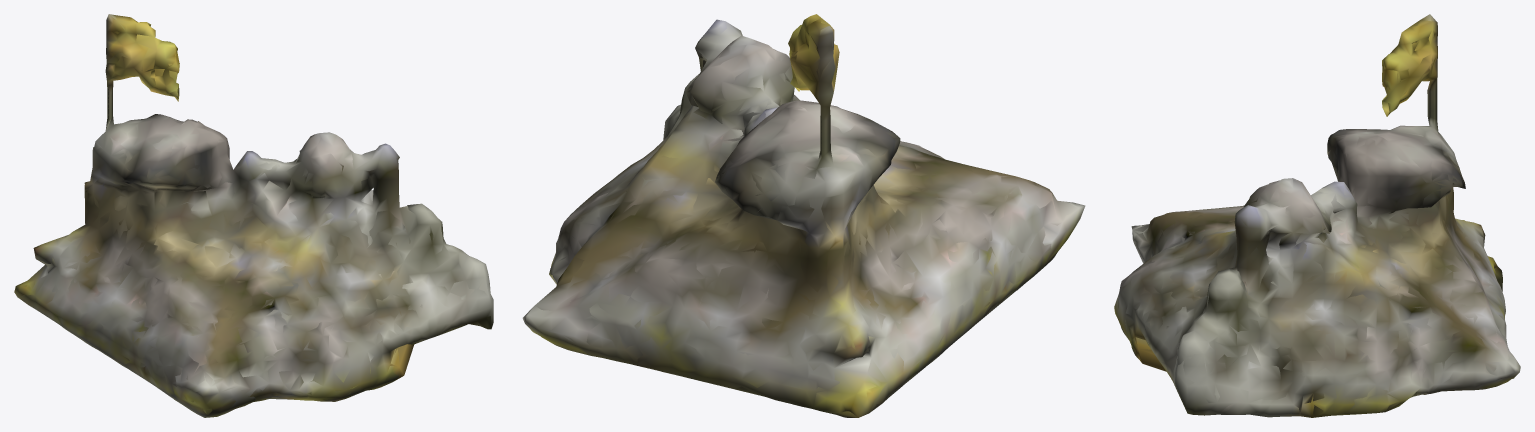
File: tech_machine_shop.glb
3 views of the same model, side by side, from view 1: azimuth 30°, elevation 25°; view 2: azimuth 150°, elevation 25°; view 3: azimuth 270°, elevation 25° (orthographic). The views are drawn at different scales.
Visible parts, largest first — view 1: tech_machine_shop; view 2: tech_machine_shop; view 3: tech_machine_shop.
Part boxes in pixels (bbox=[...]): tech_machine_shop: bbox=[14, 14, 493, 417]; tech_machine_shop: bbox=[522, 14, 1085, 417]; tech_machine_shop: bbox=[1114, 14, 1520, 417].
Size of the model in its own units: 1.68 by 1.45 by 1.89.
